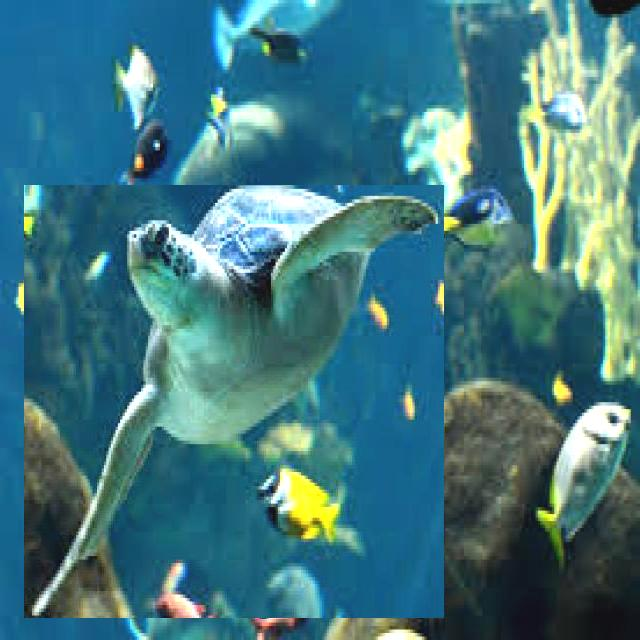Sea turtle: (24, 185, 444, 618)
